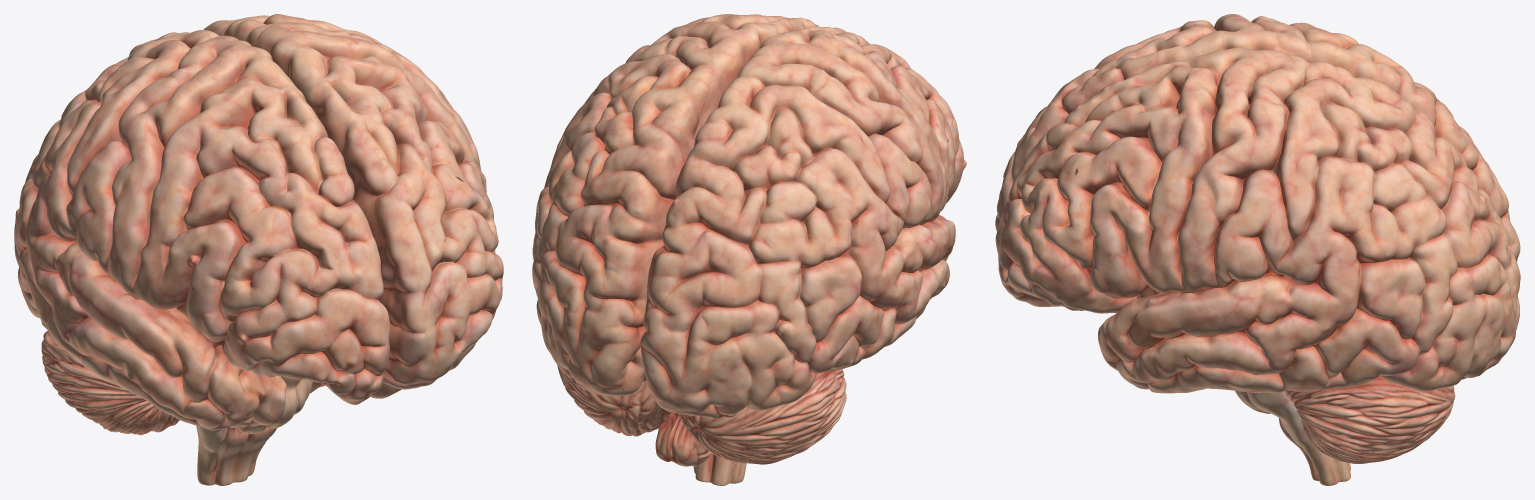
File: human-brain.glb
3 renders of one model, left to right at view 1: azimuth 30°, elevation 25°; view 2: azimuth 150°, elevation 25°; view 3: azimuth 270°, elevation 25°, orthographic. The views are drawn at different scales.
Parts seen in each view (by area): view 1: human-brain; view 2: human-brain; view 3: human-brain.
Boxes of the visible parts, bbox=[...] form: human-brain: bbox=[14, 14, 503, 485]; human-brain: bbox=[532, 14, 966, 485]; human-brain: bbox=[995, 14, 1520, 485].
Size of the model in its own units: 0.1375 by 0.1549 by 0.17.
1 material, 1 textured.
